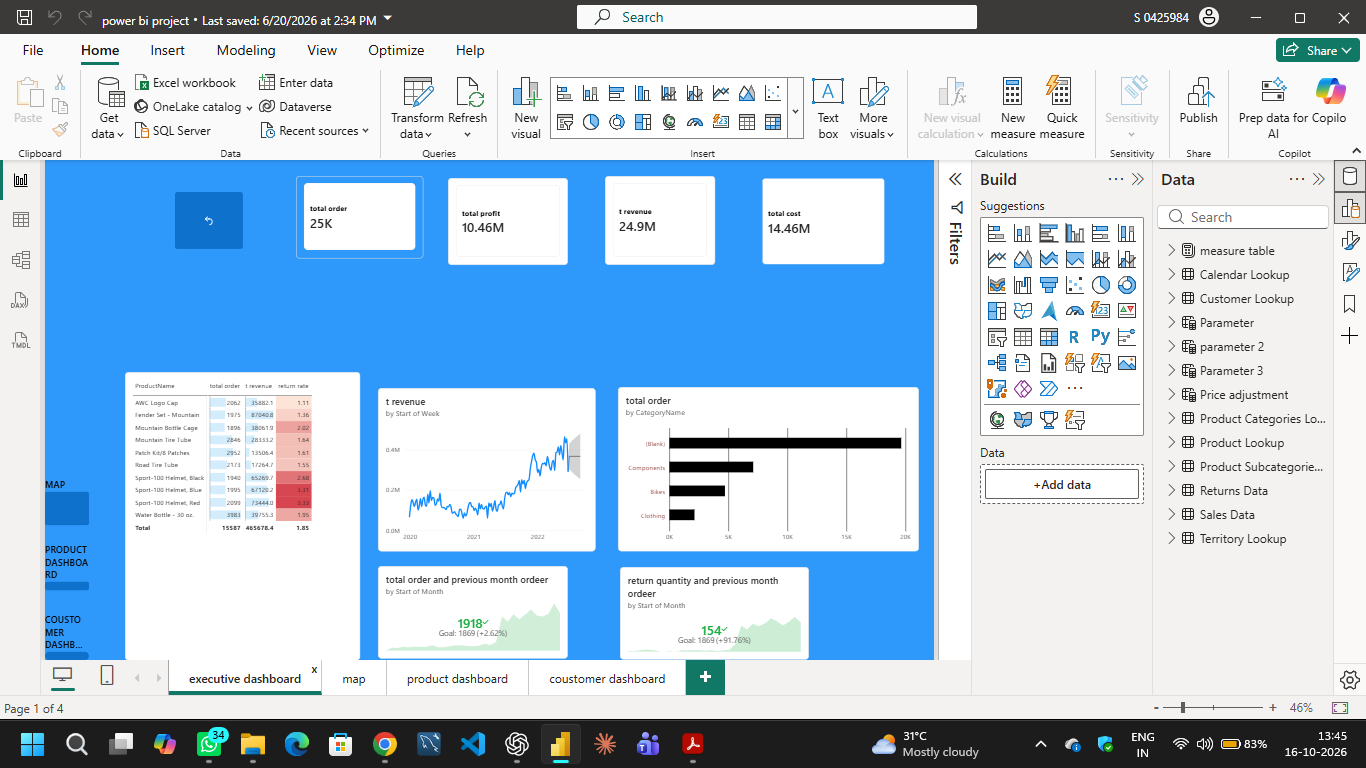

What the dashboard file says about the page in this screenshot:
{"tool":"powerbi","page":{"name":"executive dashboard","canvas":[1920,1080],"ordinal":0},"visuals":[{"type":"barChart","fields":{"Category":["Product Categories Lookup.CategoryName"],"Y":["measure table.total order"]},"box":[1237.5,490,650,355],"z":0},{"type":"lineChart","fields":{"Category":["Calendar Lookup.Start of Week"],"Y":["measure table.t revenue"]},"box":[720,492.5,470,352.5],"z":1000},{"type":"pivotTable","fields":{"Rows":["Product Lookup.ProductName"],"Values":["measure table.total order","measure table.t revenue","measure table.return rate"]},"box":[172.5,457.5,507.5,622.5],"z":2000},{"type":"kpi","fields":{"Goal":["measure table.previous month ordeer"],"Indicator":["measure table.total order"],"TrendLine":["Calendar Lookup.Start of Month"]},"box":[720,877.5,410,200],"z":3000},{"type":"kpi","fields":{"Goal":["measure table.previous month ordeer"],"Indicator":["measure table.return quantity"],"TrendLine":["Calendar Lookup.Start of Month"]},"box":[1242.5,880,407.5,200],"z":4000},{"type":"actionButton","box":[280,70,146.7,123.3],"z":5000},{"type":"cardVisual","fields":{"Data":["measure table.total order"]},"box":[542.5,35,275,177.5],"z":6000},{"type":"cardVisual","fields":{"Data":["measure table.total cost"]},"box":[1548.7,38.9,265.7,187.9],"z":7000},{"type":"cardVisual","fields":{"Data":["measure table.t revenue"]},"box":[1209.6,34.6,237.6,192.2],"z":8000},{"type":"cardVisual","fields":{"Data":["measure table.total profit"]},"box":[870.5,38.9,259.2,187.9],"z":9000},{"type":"actionButton","title":"MAP","box":[0,687.5,95,102.5],"z":10000},{"type":"actionButton","title":"PRODUCT DASHBOARD","box":[0,827.5,95,102.5],"z":11000},{"type":"actionButton","title":"COUSTOMER DASHBOARD","box":[0,977.5,95,102.5],"z":12000}]}

Visuals, with their boxes on the page's 1920x1080 design canvas (x1, y1, x2, y2). These are canvas units, not pixel positions in the 1366x768 screenshot, which may show the page scaled, cropped or inside an application window:
barChart - Product Categories Lookup.CategoryName x measure table.total order: bbox(1238, 490, 1888, 845)
lineChart - Calendar Lookup.Start of Week x measure table.t revenue: bbox(720, 492, 1190, 845)
pivotTable - Product Lookup.ProductName x measure table.total order: bbox(172, 458, 680, 1080)
kpi - measure table.previous month ordeer x measure table.total order: bbox(720, 878, 1130, 1078)
kpi - measure table.previous month ordeer x measure table.return quantity: bbox(1242, 880, 1650, 1080)
actionButton: bbox(280, 70, 427, 193)
cardVisual - measure table.total order: bbox(542, 35, 818, 212)
cardVisual - measure table.total cost: bbox(1549, 39, 1814, 227)
cardVisual - measure table.t revenue: bbox(1210, 35, 1447, 227)
cardVisual - measure table.total profit: bbox(870, 39, 1130, 227)
"MAP" actionButton: bbox(0, 688, 95, 790)
"PRODUCT DASHBOARD" actionButton: bbox(0, 828, 95, 930)
"COUSTOMER DASHBOARD" actionButton: bbox(0, 978, 95, 1080)
